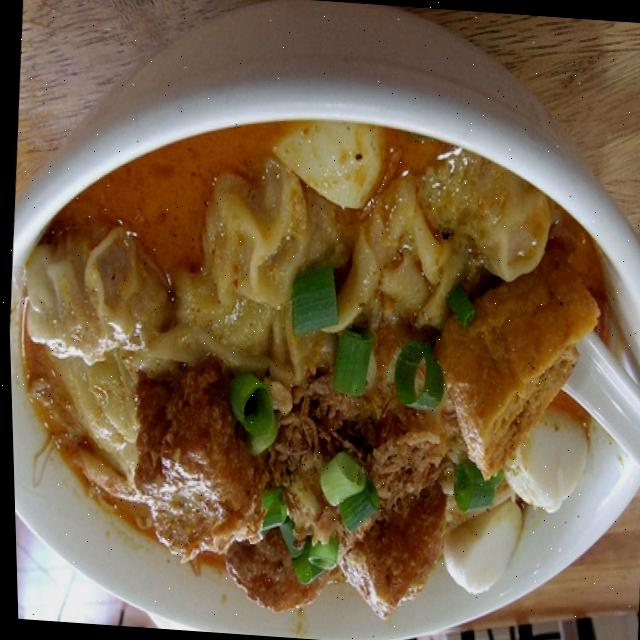面条主食: (1, 60, 640, 635)
